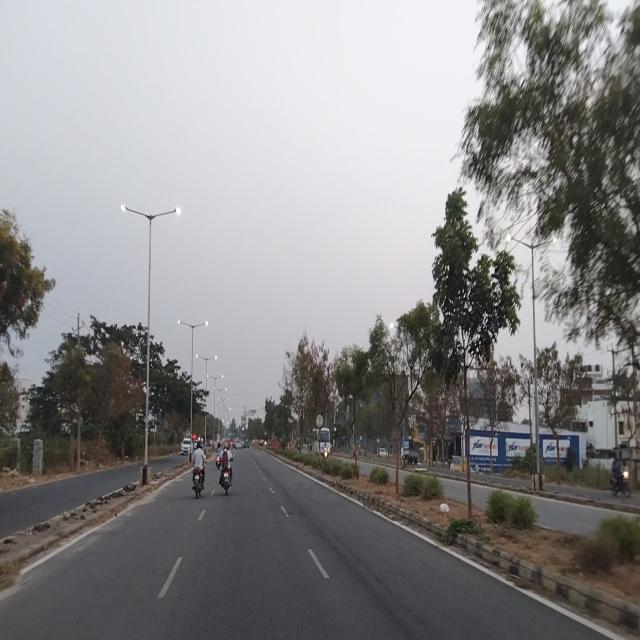bien_cam: (316, 412, 324, 428)
